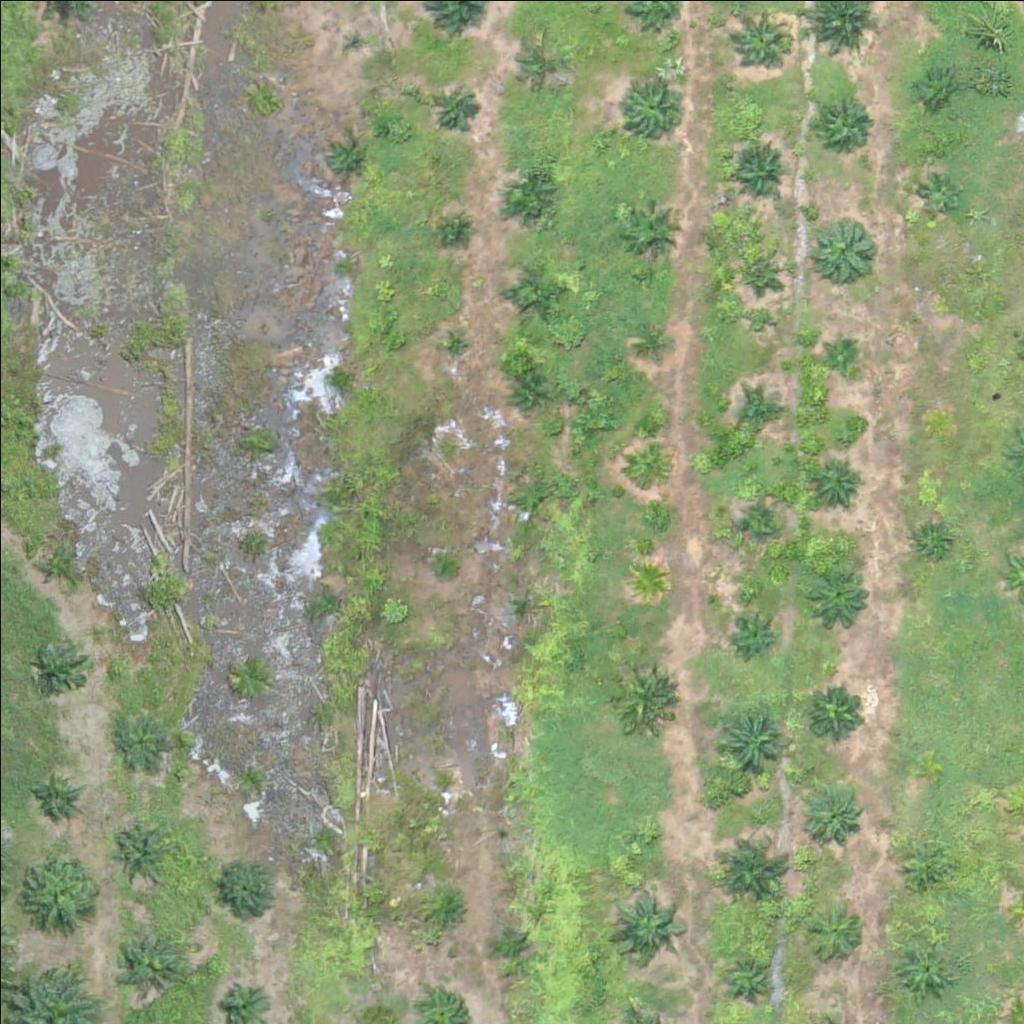Kelapa_Sawit: (19, 844, 106, 932), (707, 824, 794, 912), (611, 885, 686, 961), (716, 706, 791, 781), (814, 222, 877, 285), (805, 900, 868, 963), (802, 783, 865, 846), (108, 817, 171, 880), (213, 858, 276, 921), (611, 666, 674, 729), (891, 934, 954, 997), (814, 95, 876, 158), (809, 563, 871, 626), (805, 680, 867, 743), (115, 927, 177, 990), (731, 138, 793, 201), (621, 194, 683, 257), (501, 161, 563, 224), (623, 74, 685, 137), (729, 9, 791, 72), (21, 765, 83, 828), (502, 260, 564, 323), (815, 454, 865, 505), (738, 384, 788, 435), (486, 920, 536, 971), (424, 885, 474, 936), (432, 80, 482, 131), (734, 605, 784, 655), (114, 711, 164, 761), (38, 647, 88, 697), (901, 846, 951, 896), (517, 36, 567, 86), (318, 133, 368, 183), (737, 242, 787, 292), (733, 491, 783, 541), (726, 952, 775, 1003), (33, 545, 71, 583), (630, 560, 668, 598), (432, 323, 470, 361), (508, 371, 546, 409), (628, 438, 666, 476), (629, 318, 667, 356), (512, 480, 550, 518), (913, 517, 951, 555), (915, 66, 952, 104), (504, 586, 541, 624), (823, 334, 860, 372), (920, 179, 957, 216), (443, 219, 468, 245), (431, 559, 456, 584), (434, 768, 459, 793), (633, 821, 658, 846), (339, 30, 364, 55)
